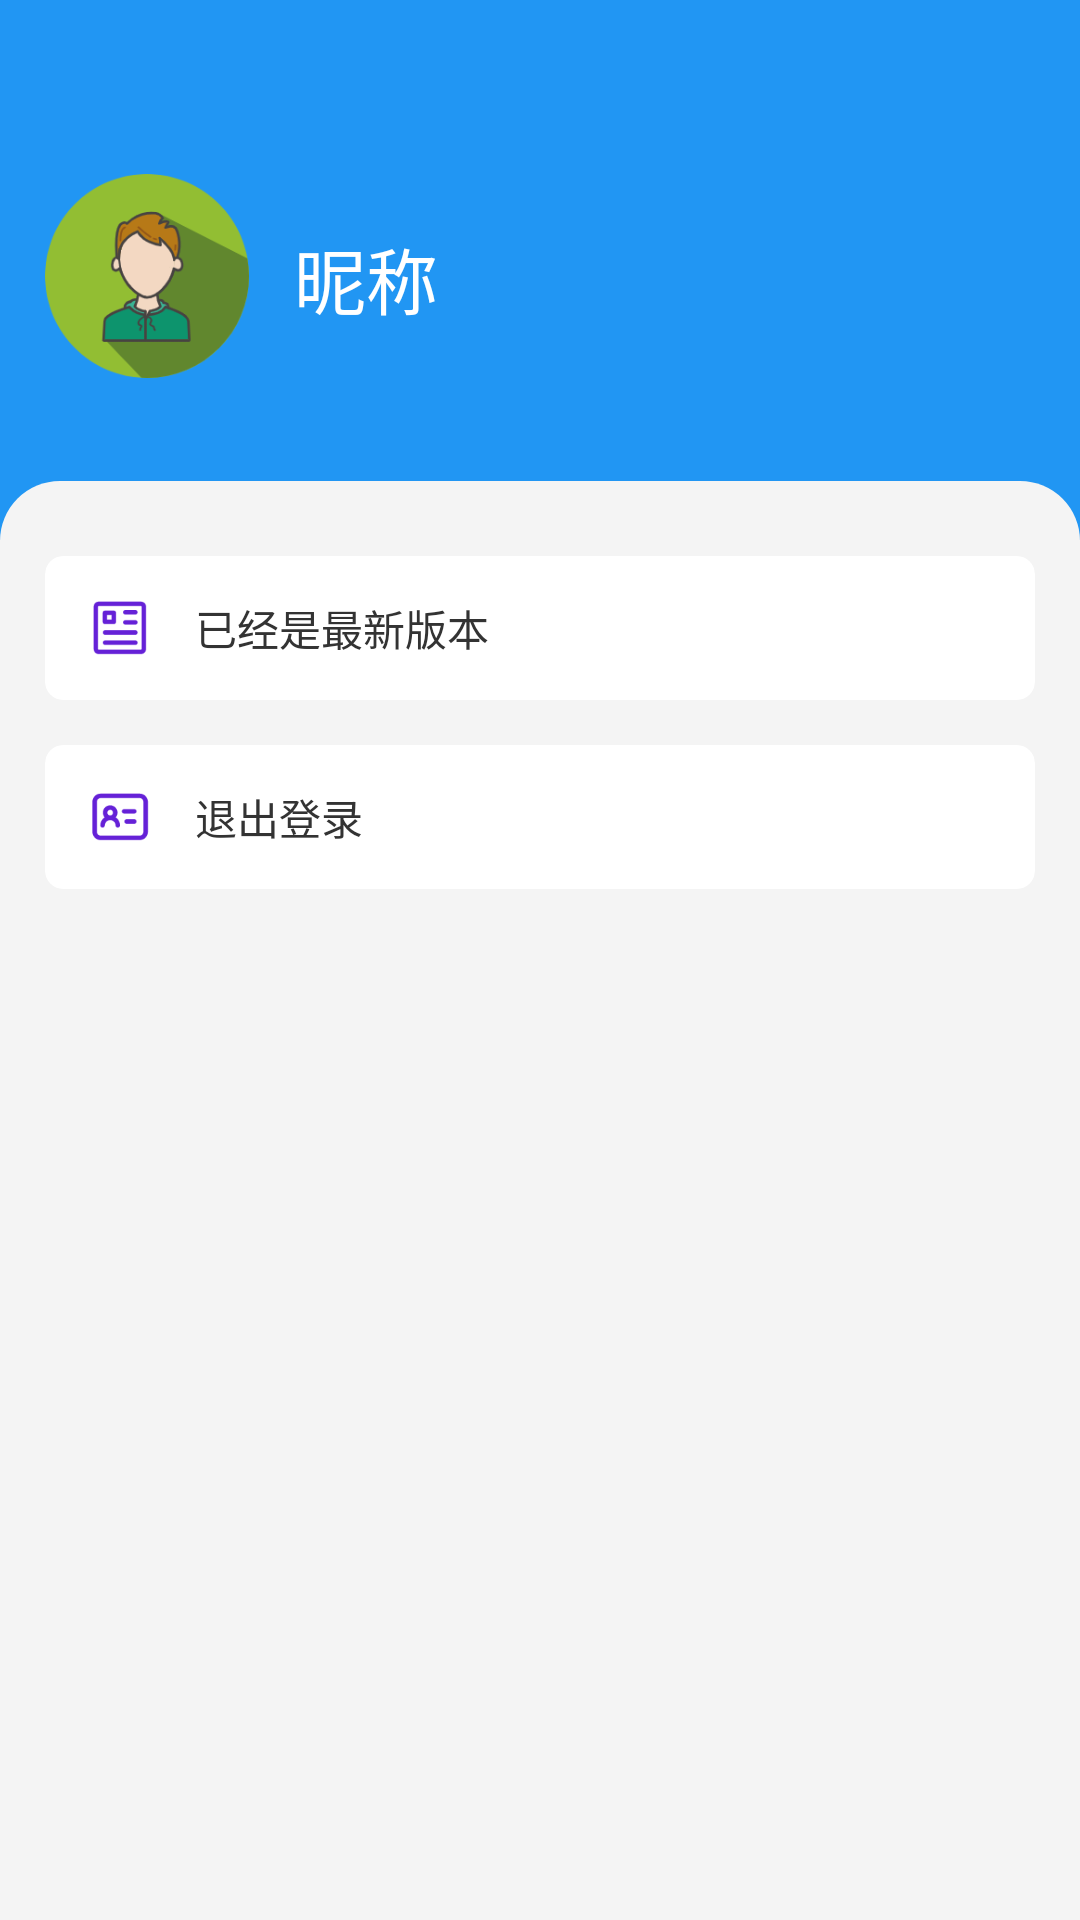

Point at icon controls on the screen. Image size 1080w x 1920h, points as point (x, y).
mine head: point (147, 276)
setting about: point (120, 628)
setting account: point (120, 817)
